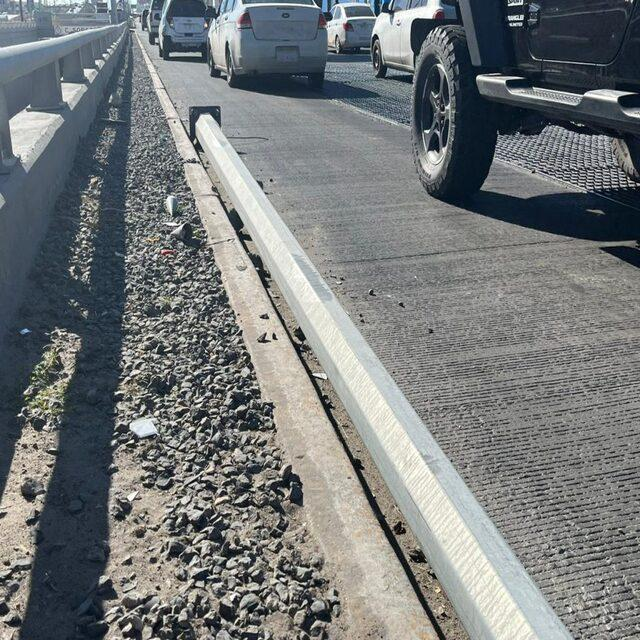Inclined Pole: (186, 104, 583, 640)
